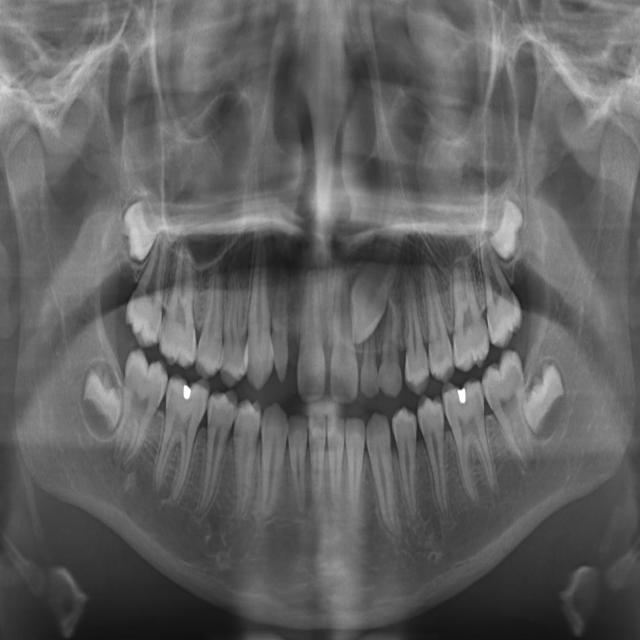AmalgamRestoration: (458, 386, 470, 406), (183, 380, 193, 402)
ImpactedTooth: (346, 244, 402, 351)
